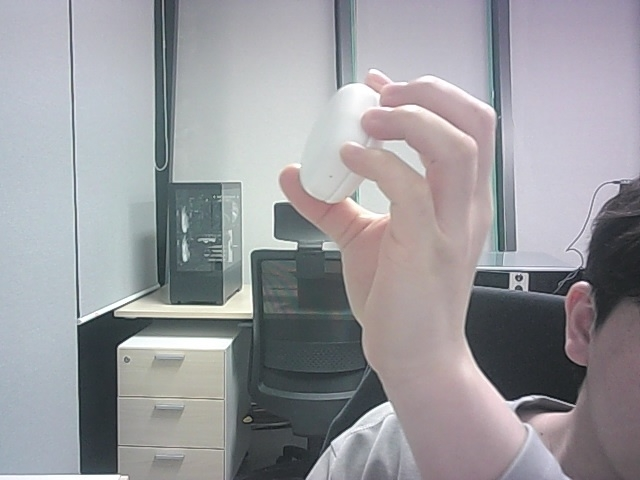case: (300, 83, 380, 203)
